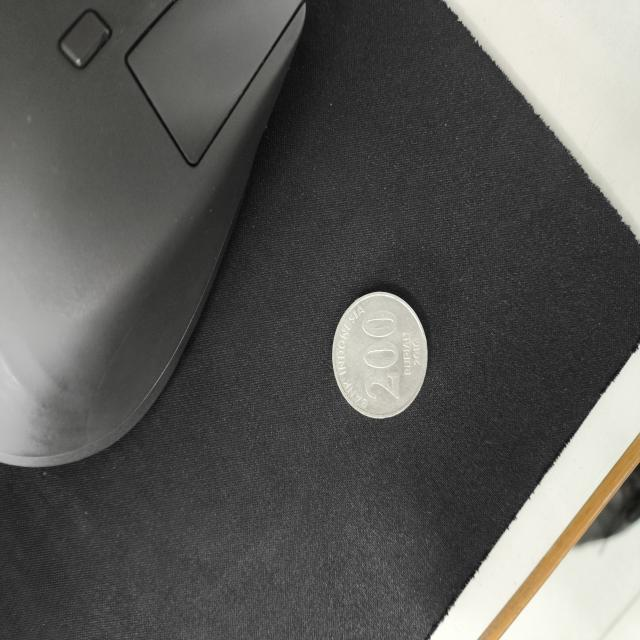1000-sawit: (332, 291, 428, 418)
